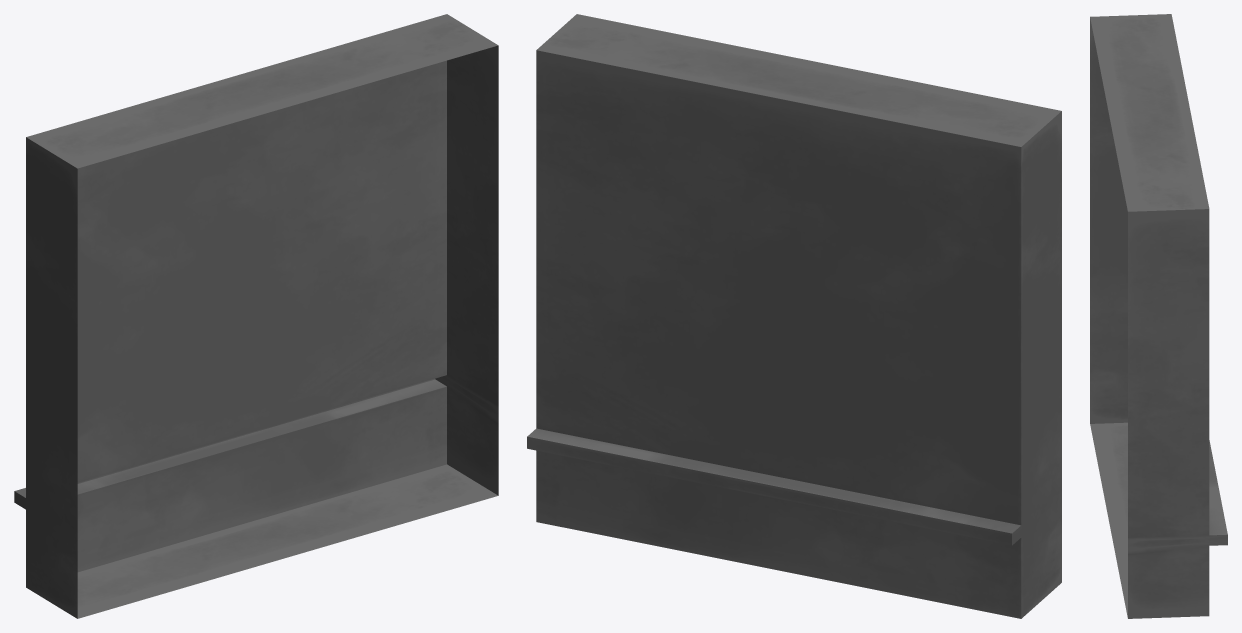
Rendered from LateralWall.fbx.
3 views of the same model, side by side, from view 1: azimuth 30°, elevation 25°; view 2: azimuth 150°, elevation 25°; view 3: azimuth 270°, elevation 25° (orthographic). The views are drawn at different scales.
Visible parts, largest first — view 1: lateralWalls1; view 2: lateralWalls1; view 3: lateralWalls1.
Part boxes in pixels (box(x1,y1,x2,y2)): lateralWalls1: box(14, 14, 498, 618); lateralWalls1: box(527, 14, 1061, 618); lateralWalls1: box(1090, 14, 1227, 618).
Bounding box in the file's own units: 14.35 × 13.73 × 4.21.
